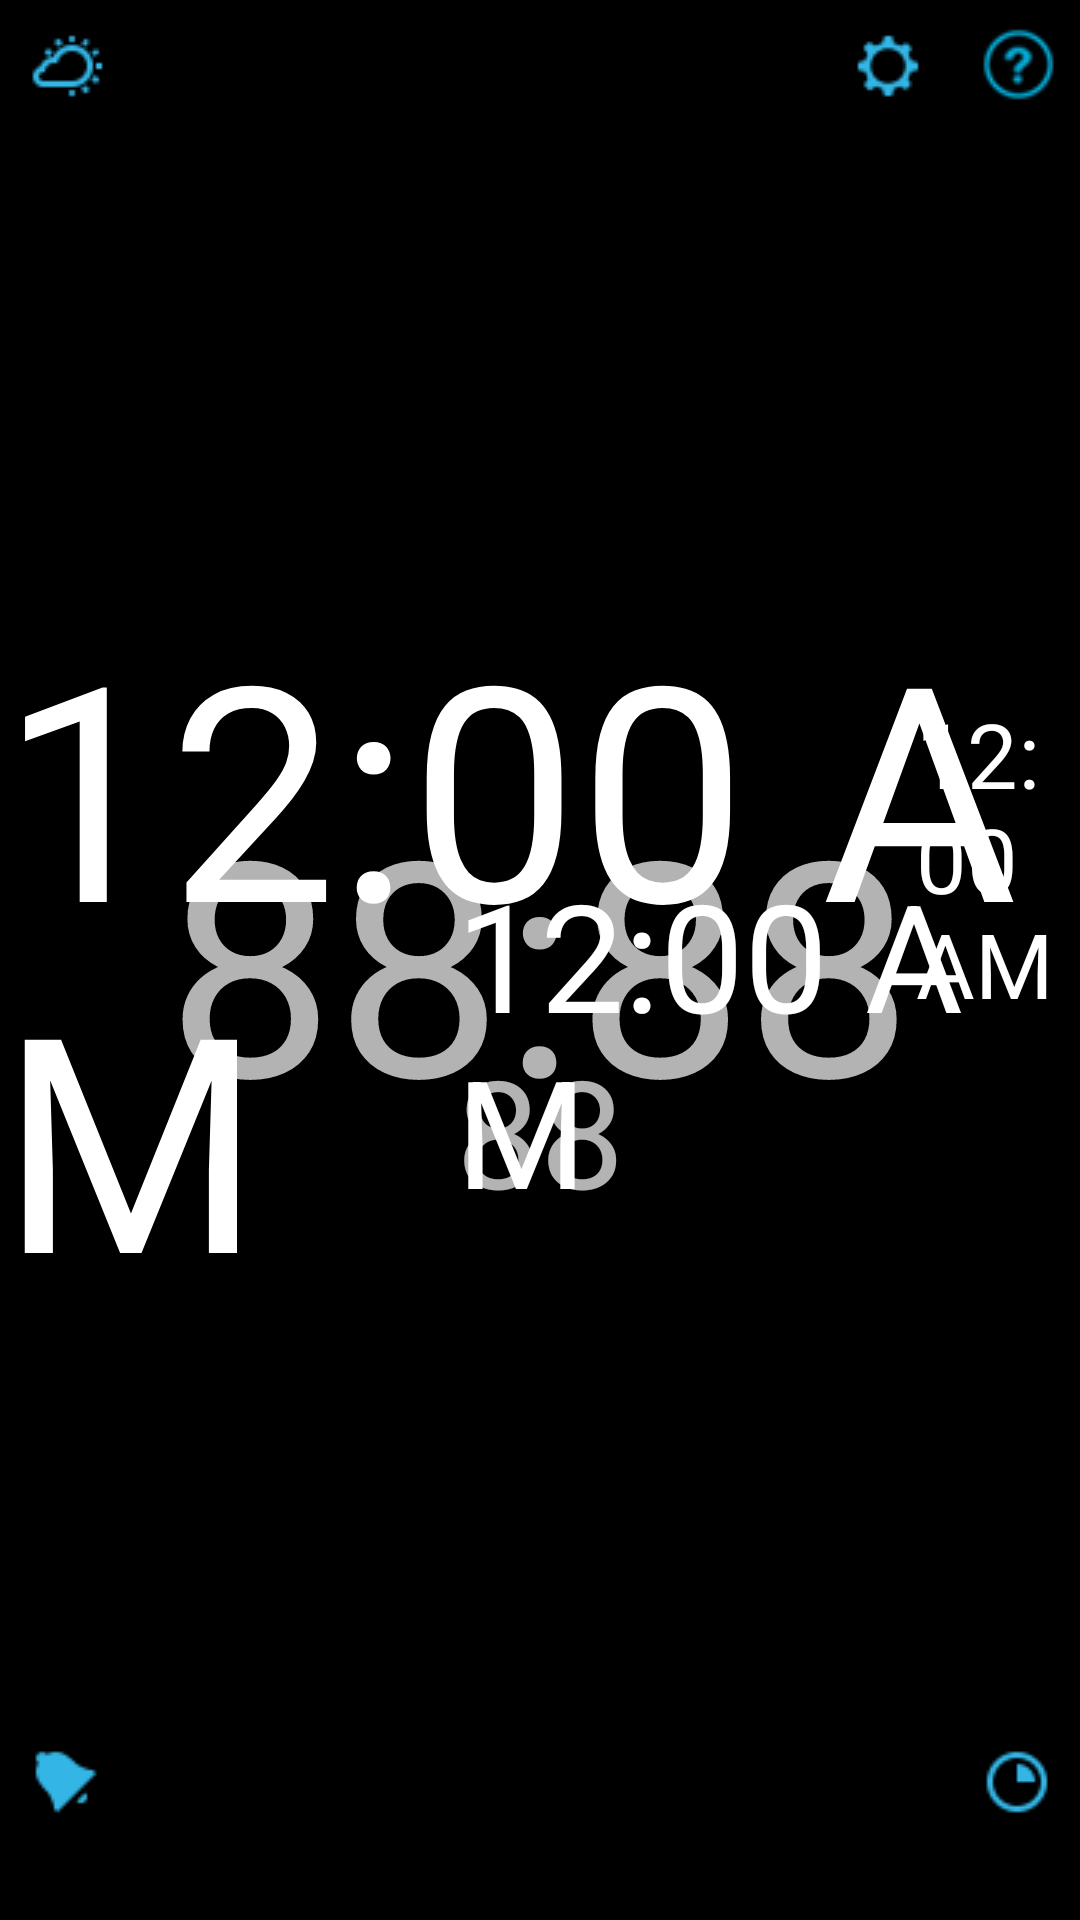

Where to tap for icons on this 1080w x 1920h app screen, as (x,y):
bar alarm: (66,1782)
bar help: (1018,64)
bar settings: (888,66)
bar timer: (1017,1782)
bar weather: (67,66)
